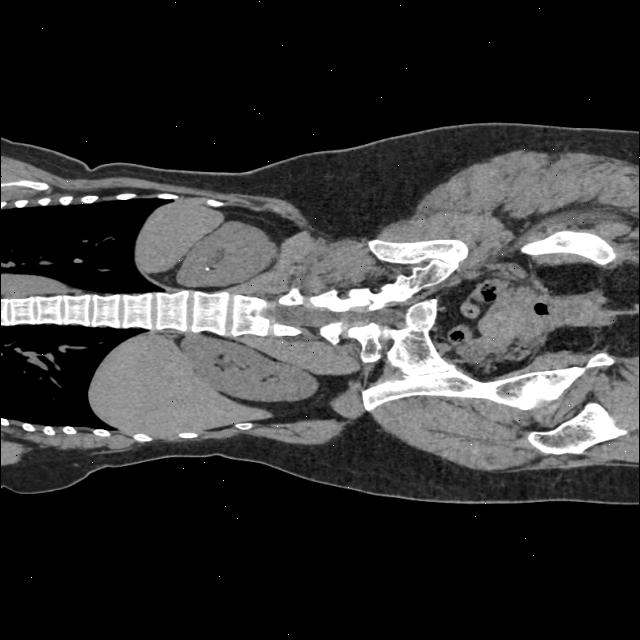kidneystone: (204, 266, 210, 269)
